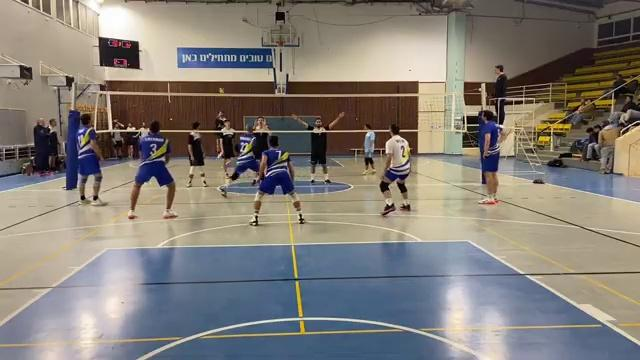ball: (215, 84, 226, 96)
